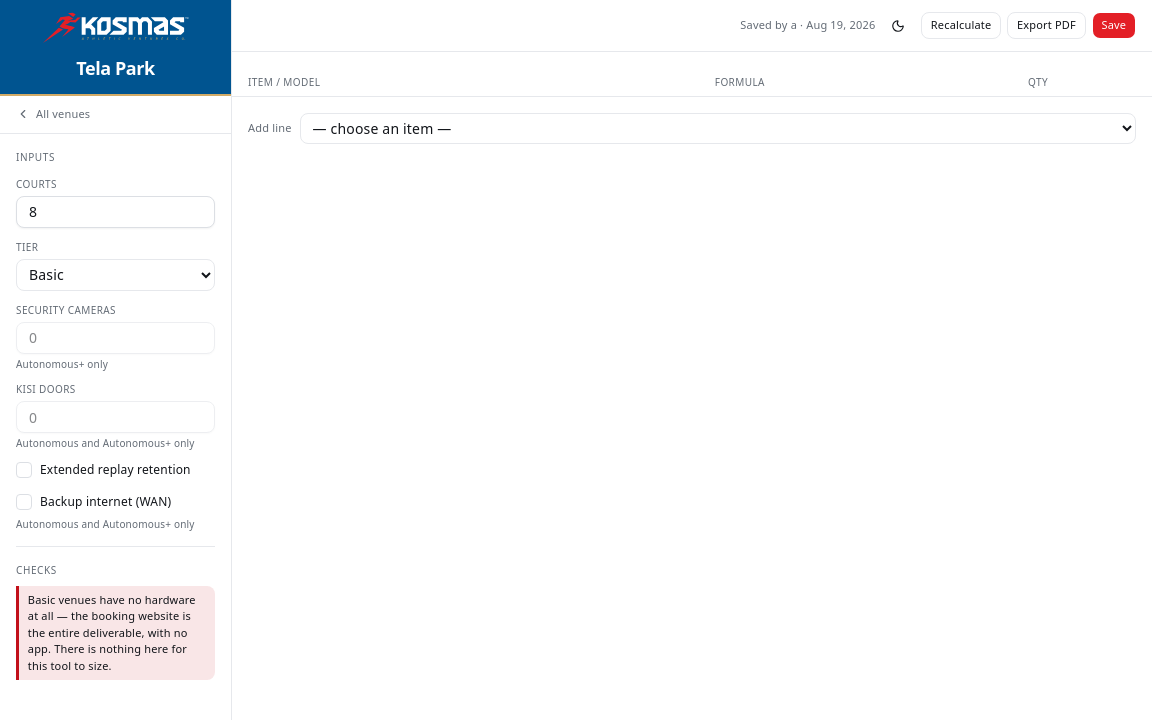
guards a venue whose tier produces no lines at all
The image size is (1152, 720).
expect the text "booking website" is shown: met, box [28, 592, 196, 673]
Replace the text in the number field labelled "Courts" with "12" at (116, 212), box [16, 196, 215, 228]
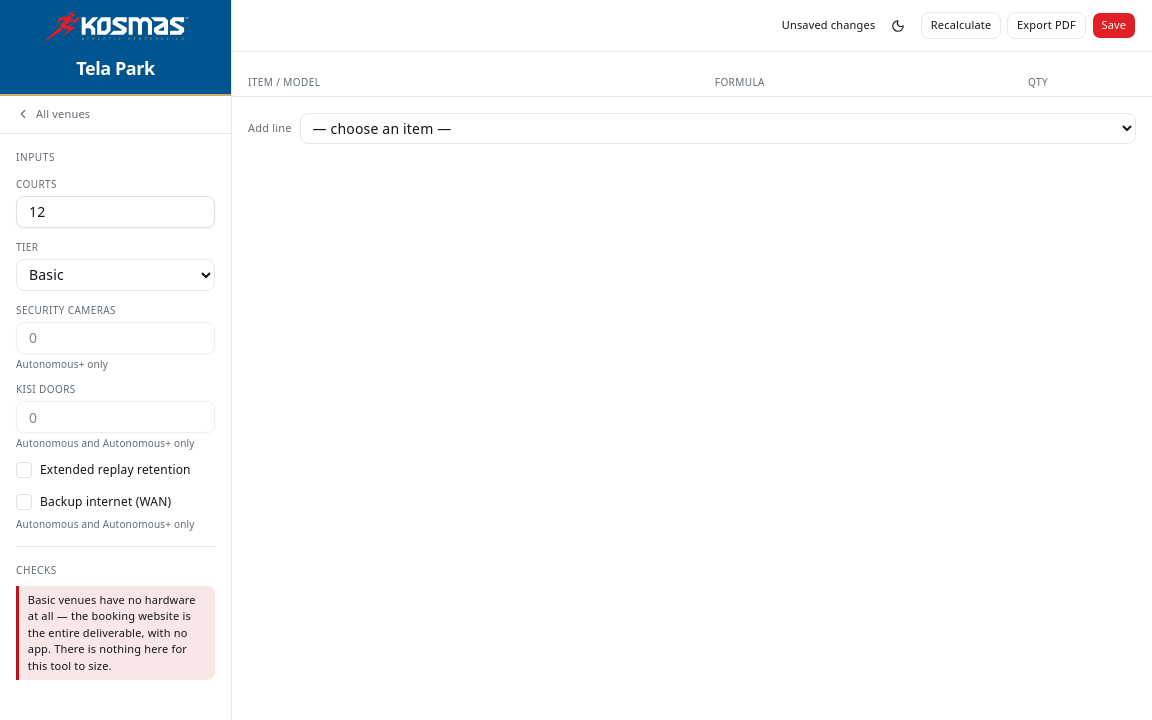
Click the link "All venues" at (116, 115), box [0, 96, 231, 134]
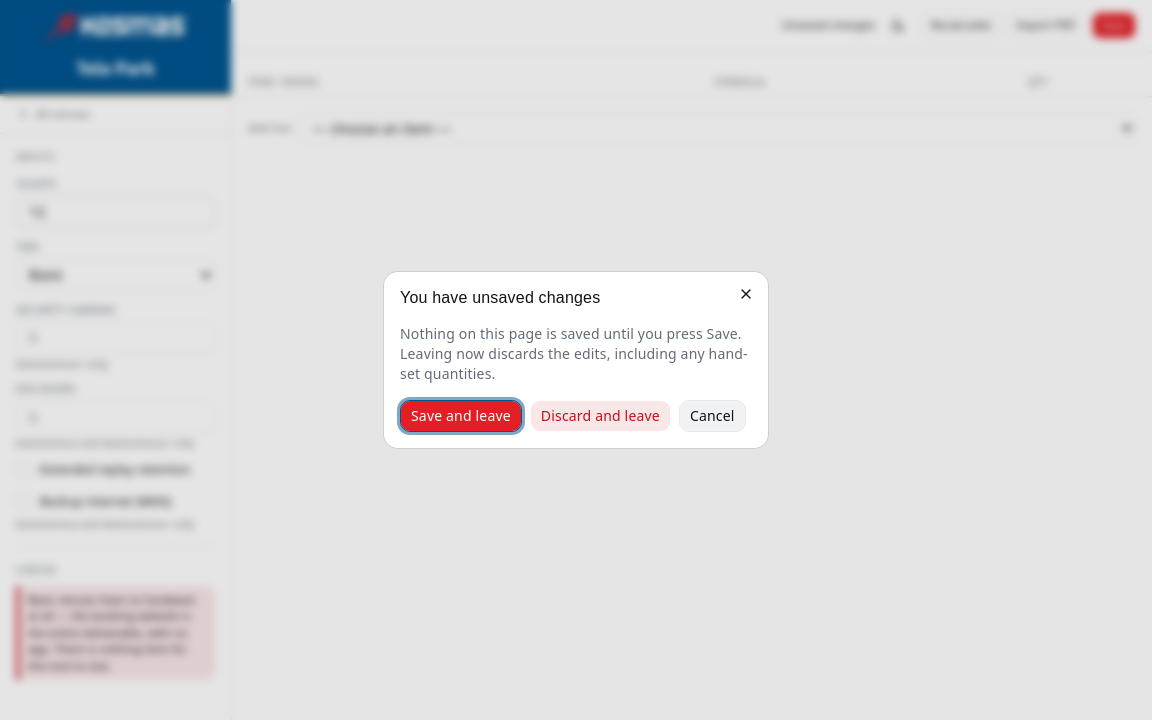
expect the heading "You have unsaved changes" is shown: met, box [400, 289, 600, 306]
